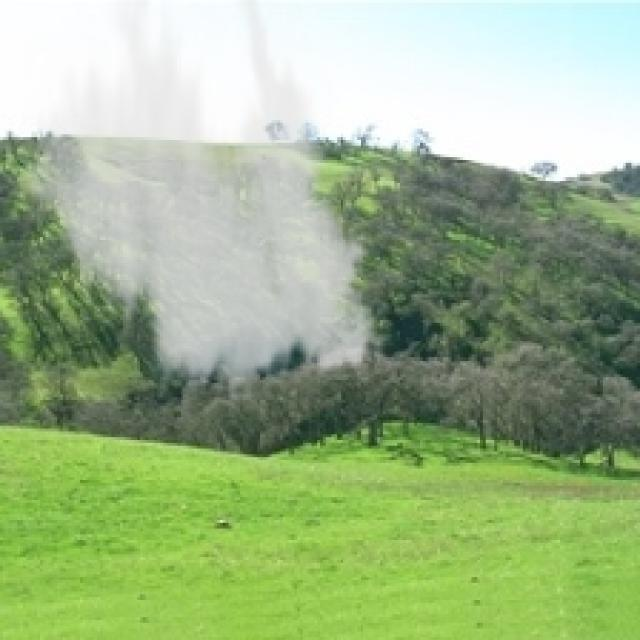Smoke: (14, 0, 394, 406)
